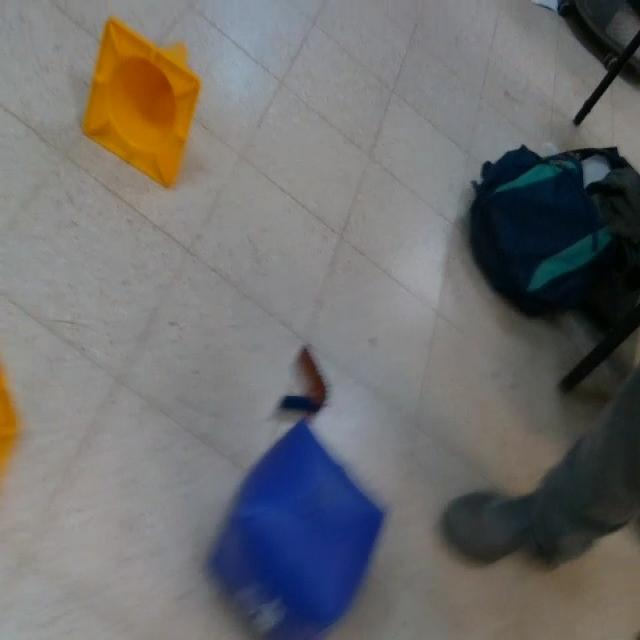cone: (81, 18, 202, 191)
cube: (208, 420, 390, 640)
